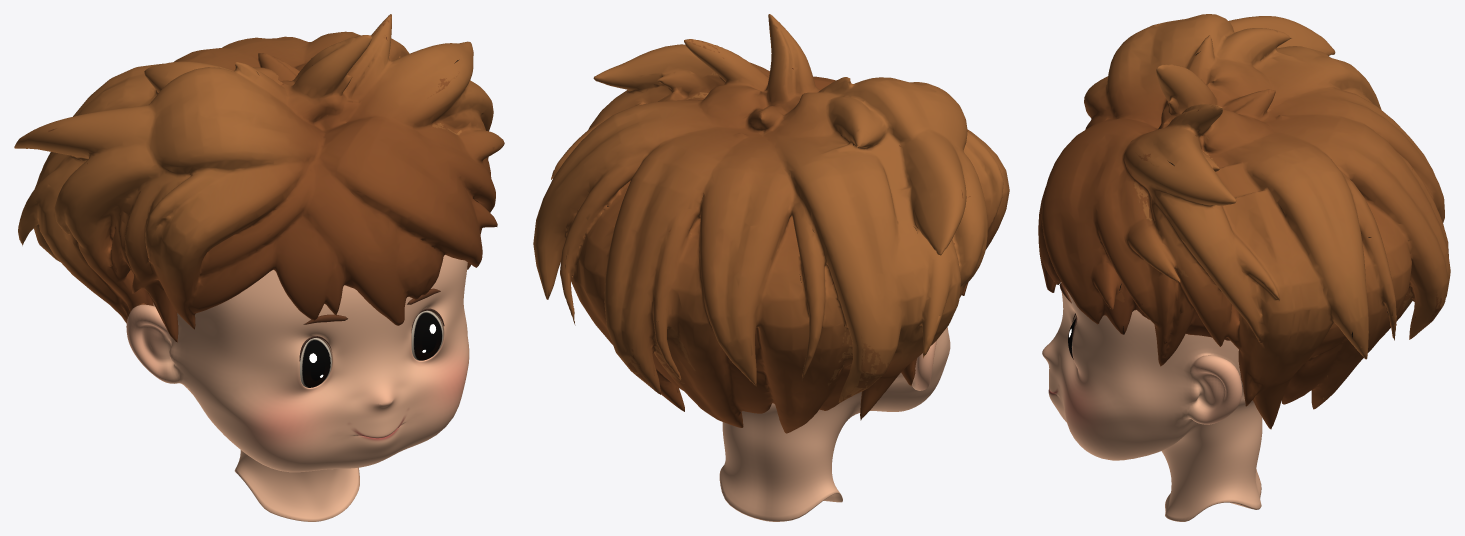
Rendered from head_candidate_v010.glb.
3 renders of one model, left to right at view 1: azimuth 30°, elevation 25°; view 2: azimuth 150°, elevation 25°; view 3: azimuth 270°, elevation 25°, orthographic. The views are drawn at different scales.
Visible parts, largest first — view 1: SCULPT_HAIR, SCULPT_HEAD, SCULPT_EYE_L, SCULPT_EYE_R; view 2: SCULPT_HAIR, SCULPT_HEAD; view 3: SCULPT_HAIR, SCULPT_HEAD.
Boxes of the visible parts, <box> form: SCULPT_HAIR: <box>14,14,504,342</box>; SCULPT_HEAD: <box>126,255,469,521</box>; SCULPT_EYE_L: <box>411,310,443,360</box>; SCULPT_EYE_R: <box>300,338,331,387</box>; SCULPT_HAIR: <box>533,14,1009,433</box>; SCULPT_HEAD: <box>719,327,950,521</box>; SCULPT_HAIR: <box>1038,14,1450,429</box>; SCULPT_HEAD: <box>1042,282,1262,521</box>.
Bounding box in the file's own units: 0.4761 × 0.5076 × 0.4073.
Materials: 5 (3 with a texture image).
